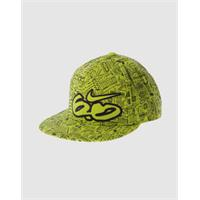hat: (40, 52, 161, 142)
